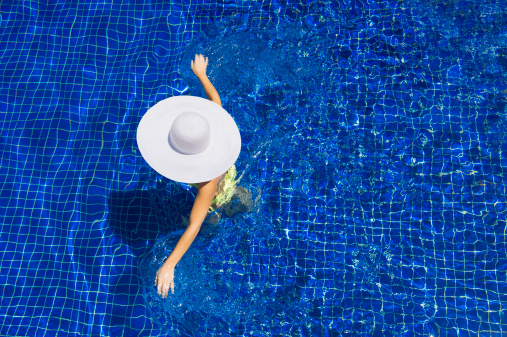em pe: (136, 44, 232, 301)
